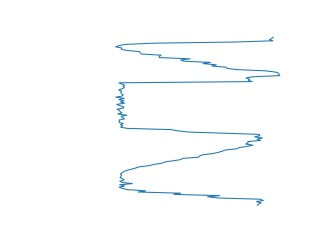distributaryChannelFill: (113, 72, 263, 143)
mouthBar: (110, 35, 282, 76)
underwaterDistributaryChannel: (114, 136, 266, 207)
